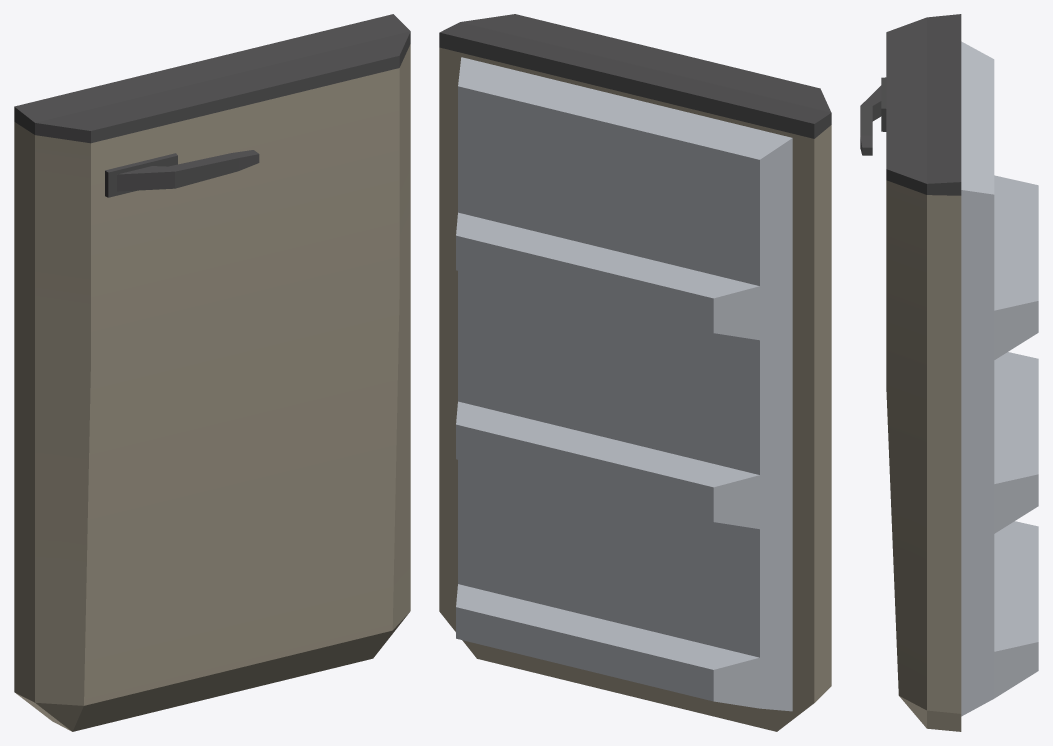
The model's file is SM_Prop_Fridge_Door_02.glb.
3 views of the same model, side by side, from view 1: azimuth 30°, elevation 25°; view 2: azimuth 150°, elevation 25°; view 3: azimuth 270°, elevation 25° (orthographic). The views are drawn at different scales.
Parts seen in each view (by area): view 1: SM_Prop_Fridge_Door_02; view 2: SM_Prop_Fridge_Door_02; view 3: SM_Prop_Fridge_Door_02.
Part boxes in pixels (<box>): SM_Prop_Fridge_Door_02: <box>14,14,410,731</box>; SM_Prop_Fridge_Door_02: <box>439,14,831,731</box>; SM_Prop_Fridge_Door_02: <box>860,14,1038,731</box>.
Bounding box in the file's own units: 0.934 × 1.47 × 0.4194.
Materials: 1 (1 with a texture image).
